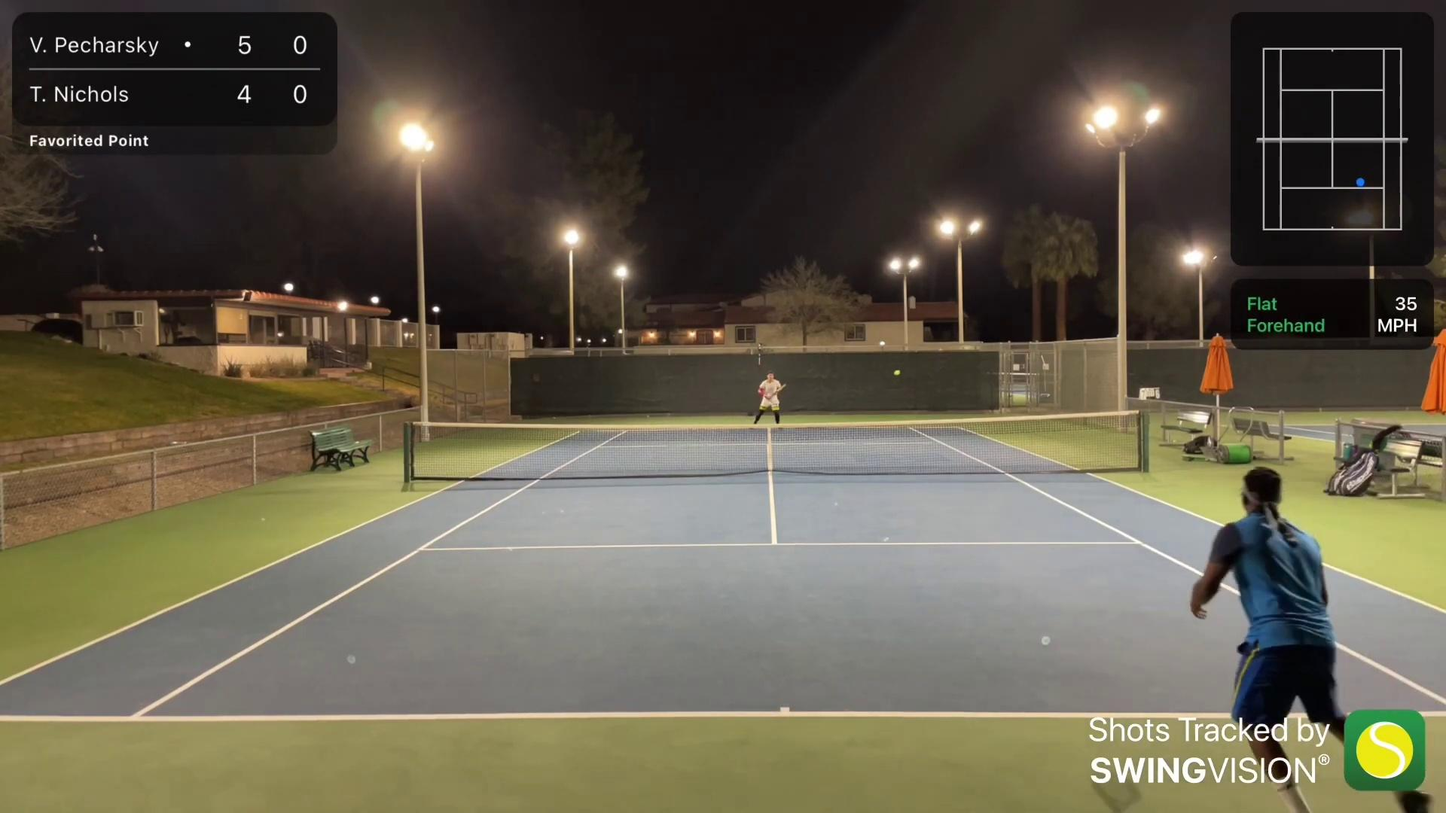ball: (891, 370, 900, 377)
